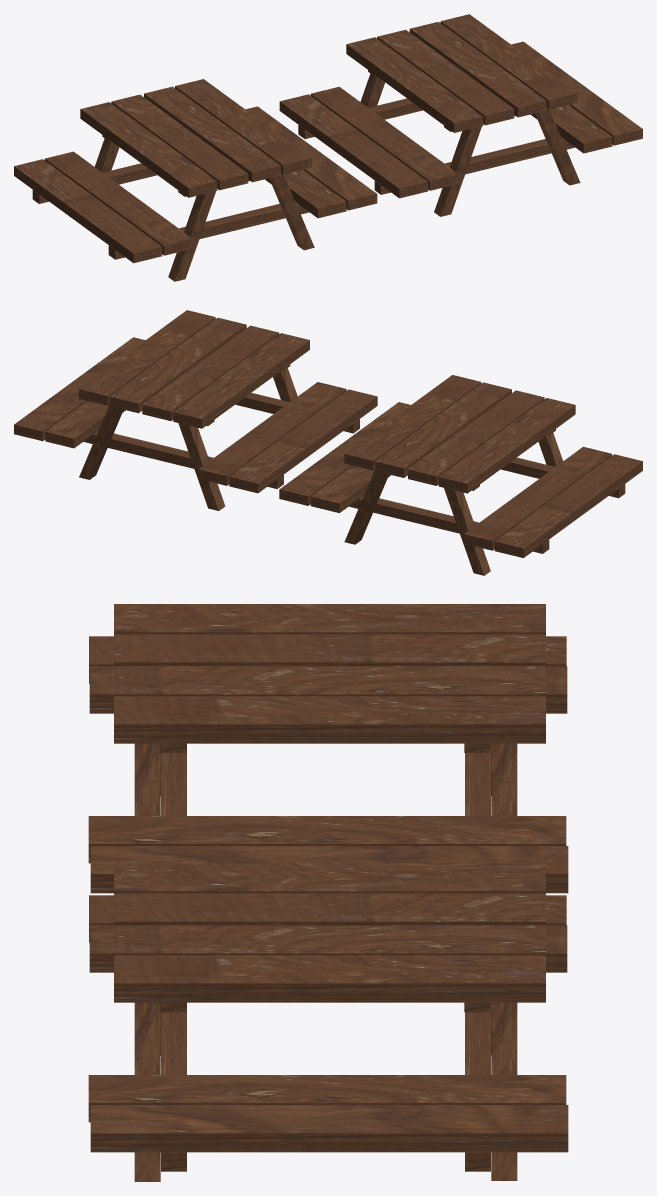
The model's file is BancasMadera.obj.
The picture shows the model from 3 angles, top to bottom: view 1: azimuth 30°, elevation 25°; view 2: azimuth 150°, elevation 25°; view 3: azimuth 270°, elevation 25°; orthographic projection. The views are drawn at different scales.
Parts seen in each view (by area): view 1: BanquitaUnida.002, BanquitaUnida.001; view 2: BanquitaUnida.001, BanquitaUnida.002; view 3: BanquitaUnida.002, BanquitaUnida.001.
Boxes of the visible parts, x1,y1,x2,y2 form: BanquitaUnida.002: (279, 14, 642, 216); BanquitaUnida.001: (14, 79, 377, 281); BanquitaUnida.001: (279, 375, 642, 575); BanquitaUnida.002: (14, 310, 377, 510); BanquitaUnida.002: (88, 863, 568, 1181); BanquitaUnida.001: (88, 604, 568, 893).
Bounding box in the file's own units: 13.61 × 2.43 × 5.54.
